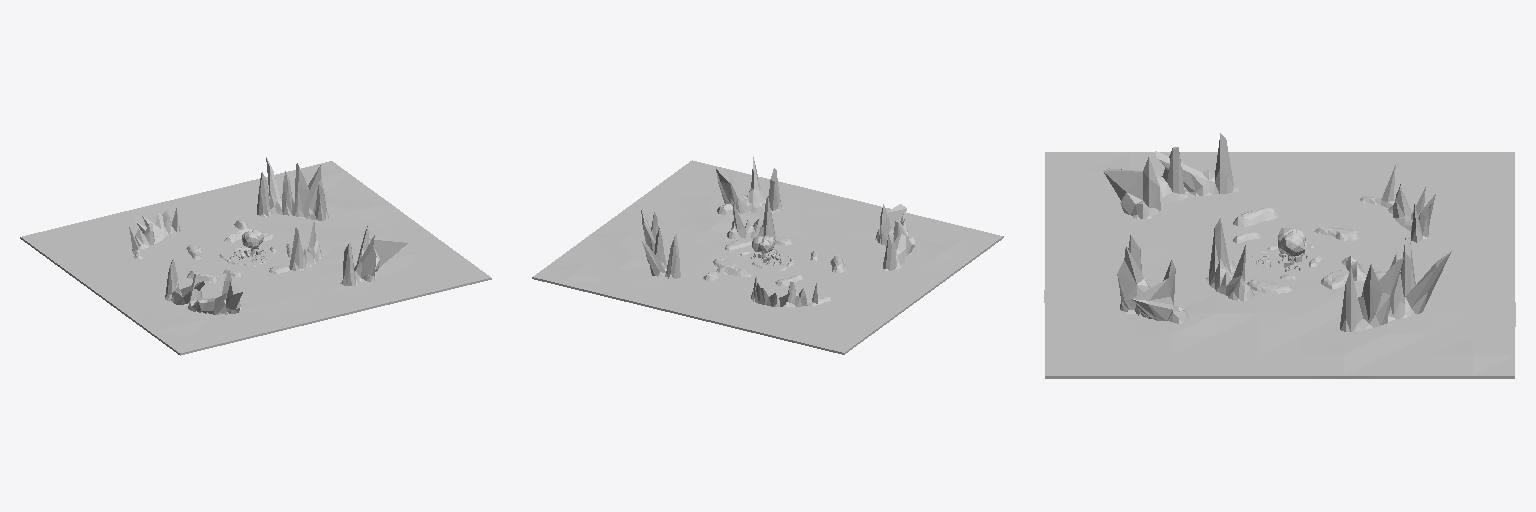
The robot description file, URDF, robot "unnamed":
<?xml version="1.0"?>
<!-- created with Phobos 1.0.1 "Capricious Choutengan" -->
  <robot name="unnamed">

    <link name="D">
      <inertial>
        <origin xyz="0 0 0" rpy="0 0 0"/>
        <mass value="0.001"/>
        <inertia ixx="0.001" ixy="0" ixz="0" iyy="0.001" iyz="0" izz="0.001"/>
      </inertial>
      <visual name="Apple">
        <origin xyz="-0.60168 -0.72072 0.26549" rpy="0 0 0"/>
        <geometry>
          <box size="0.51623 0.5428 0.54709"/>
        </geometry>
        <material name="Apples"/>
      </visual>
      <visual name="Apple2">
        <origin xyz="0.78993 -1.03571 0.2784" rpy="0 0 0"/>
        <geometry>
          <box size="0.51623 0.5428 0.54709"/>
        </geometry>
        <material name="Apples"/>
      </visual>
      <visual name="Apple3">
        <origin xyz="-0.54497 -0.01431 0.27625" rpy="0 0 -2.7357"/>
        <geometry>
          <box size="0.51623 0.5428 0.54709"/>
        </geometry>
        <material name="Apples"/>
      </visual>
      <visual name="Big Tree">
        <origin xyz="0.08515 -0.69393 0.19465" rpy="0 0 1.90972"/>
        <geometry>
          <mesh filename="..\meshes\dae\Cylinder.005.dae" scale="0.16942 0.16942 0.16942"/>
        </geometry>
        <material name="Material.013"/>
      </visual>
      <visual name="Cube">
        <origin xyz="0.02449 0.00025 0.03172" rpy="0 0 0"/>
        <geometry>
          <mesh filename="..\meshes\dae\Cube.001.dae" scale="0.119 0.119 0.01244"/>
        </geometry>
        <material name="Material.001"/>
      </visual>
      <visual name="Flag Pole">
        <origin xyz="-0.73622 -3.36644 0.22896" rpy="0 0 0"/>
        <geometry>
          <mesh filename="..\meshes\dae\Cylinder.dae" scale="0.00652 0.00652 0.26092"/>
        </geometry>
        <material name="Material.003"/>
      </visual>
      <visual name="Grass">
        <origin xyz="0.02449 -1.73482 -0.15137" rpy="0 0 0"/>
        <geometry>
          <mesh filename="..\meshes\dae\Cube.006.dae" scale="25.58492 22.68643 0.15866"/>
        </geometry>
        <material name="Material.015"/>
      </visual>
      <visual name="Hills">
        <origin xyz="0.02449 -1.73482 -0.15137" rpy="0 0 0"/>
        <geometry>
          <mesh filename="..\meshes\dae\Plane.002.dae" scale="8.18262 8.18262 8.18262"/>
        </geometry>
        <material name="Material.016"/>
      </visual>
      <visual name="Icosphere">
        <origin xyz="-0.95211 -1.40743 0.49285" rpy="0 0 0"/>
        <geometry>
          <mesh filename="..\meshes\dae\Icosphere.001.dae" scale="0.17457 0.17457 0.17457"/>
        </geometry>
        <material name="Material.005"/>
      </visual>
      <visual name="Icosphere.001">
        <origin xyz="-1.72954 -1.15293 0.46944" rpy="0 0 0"/>
        <geometry>
          <mesh filename="..\meshes\dae\Icosphere.002.dae" scale="0.17457 0.17457 0.17457"/>
        </geometry>
        <material name="Material.012"/>
      </visual>
      <visual name="Icosphere.002">
        <origin xyz="-0.29969 -0.1999 2.51158" rpy="0 0 1.90972"/>
        <geometry>
          <mesh filename="..\meshes\dae\Icosphere.003.dae" scale="0.84161 0.84161 0.84161"/>
        </geometry>
        <material name="Material.014"/>
      </visual>
      <visual name="Mountains">
        <origin xyz="0.02449 -1.73482 -0.15137" rpy="0 0 0"/>
        <geometry>
          <mesh filename="..\meshes\dae\Plane.001.dae" scale="18.93395 18.93395 18.93395"/>
        </geometry>
        <material name="Material.002"/>
      </visual>
      <visual name="Plane">
        <origin xyz="-0.73622 -3.18705 0.37573" rpy="-3.14159 -1.5708 0"/>
        <geometry>
          <mesh filename="..\meshes\dae\Plane.dae" scale="0.04892 0.17938 0.03262"/>
        </geometry>
        <material name="Material.flag.001"/>
      </visual>
      <visual name="Stem">
        <origin xyz="-0.60531 -0.72989 0.29273" rpy="0 0 0"/>
        <geometry>
          <box size="0.04394 0.04639 0.41547"/>
        </geometry>
      </visual>
      <visual name="Stem2">
        <origin xyz="0.78631 -1.04488 0.30564" rpy="0 0 0"/>
        <geometry>
          <box size="0.04394 0.04639 0.41547"/>
        </geometry>
      </visual>
      <visual name="Stem3">
        <origin xyz="-0.54526 -0.00446 0.30349" rpy="0 0 -2.7357"/>
        <geometry>
          <box size="0.04394 0.04639 0.41547"/>
        </geometry>
      </visual>
      <visual name="Torus.001">
        <origin xyz="-0.98628 -2.8753 0.16704" rpy="1.5708 0 0"/>
        <geometry>
          <mesh filename="..\meshes\dae\Torus.001.dae" scale="0.25847 0.25847 0.25847"/>
        </geometry>
        <material name="rings"/>
      </visual>
      <visual name="Torus.002">
        <origin xyz="0.58319 -2.62583 0.12791" rpy="1.5708 0 0"/>
        <geometry>
          <mesh filename="..\meshes\dae\Torus.002.dae" scale="0.25847 0.25847 0.25847"/>
        </geometry>
        <material name="rings"/>
      </visual>
      <visual name="Torus.003">
        <origin xyz="-0.2096 -1.66568 0.16223" rpy="1.5708 0 -0.75334"/>
        <geometry>
          <mesh filename="..\meshes\dae\Torus.003.dae" scale="0.25847 0.25847 0.25847"/>
        </geometry>
        <material name="rings"/>
      </visual>
      <visual name="Torus.004">
        <origin xyz="1.69706 -0.99747 0.15597" rpy="1.5708 0 -0.75334"/>
        <geometry>
          <mesh filename="..\meshes\dae\Torus.004.dae" scale="0.25847 0.25847 0.25847"/>
        </geometry>
        <material name="rings"/>
      </visual>
      <visual name="Torus.005">
        <origin xyz="-2.35299 -1.02638 0.17049" rpy="1.5708 0 -1.48943"/>
        <geometry>
          <mesh filename="..\meshes\dae\Torus.005.dae" scale="0.25847 0.25847 0.25847"/>
        </geometry>
        <material name="rings"/>
      </visual>
      <visual name="Torus.006">
        <origin xyz="-0.55668 -0.31027 0.15361" rpy="1.5708 0 -1.11838"/>
        <geometry>
          <mesh filename="..\meshes\dae\Torus.006.dae" scale="0.25847 0.25847 0.25847"/>
        </geometry>
        <material name="rings"/>
      </visual>
      <visual name="Torus.007">
        <origin xyz="-1.18808 0.5907 0.18224" rpy="1.5708 0 -1.48943"/>
        <geometry>
          <mesh filename="..\meshes\dae\Torus.007.dae" scale="0.25847 0.25847 0.25847"/>
        </geometry>
        <material name="rings"/>
      </visual>
      <visual name="Torus.008">
        <origin xyz="-2.14964 0.344 0.20077" rpy="1.5708 0 -1.48943"/>
        <geometry>
          <mesh filename="..\meshes\dae\Torus.008.dae" scale="0.25847 0.25847 0.25847"/>
        </geometry>
        <material name="rings"/>
      </visual>
      <visual name="Torus.009">
        <origin xyz="-3.06575 -0.34612 0.12243" rpy="1.5708 0 2.97589"/>
        <geometry>
          <mesh filename="..\meshes\dae\Torus.009.dae" scale="0.25847 0.25847 0.25847"/>
        </geometry>
        <material name="rings"/>
      </visual>
      <visual name="Torus.010">
        <origin xyz="1.49443 -0.04275 0.16985" rpy="1.5708 0 -1.93577"/>
        <geometry>
          <mesh filename="..\meshes\dae\Torus.010.dae" scale="0.25847 0.25847 0.25847"/>
        </geometry>
        <material name="rings"/>
      </visual>
      <visual name="Torus.011">
        <origin xyz="-0.08394 -3.58116 0.15645" rpy="1.5708 0 -1.71827"/>
        <geometry>
          <mesh filename="..\meshes\dae\Torus.011.dae" scale="0.25847 0.25847 0.25847"/>
        </geometry>
        <material name="rings"/>
      </visual>
      <visual name="Tree1">
        <origin xyz="-1.07529 -1.44865 0.01226" rpy="0 0 0"/>
        <geometry>
          <mesh filename="..\meshes\dae\Cylinder.000.dae" scale="0.03514 0.03514 0.03514"/>
        </geometry>
        <material name="Material.006"/>
      </visual>
      <visual name="Tree2">
        <origin xyz="-1.85272 -1.19415 -0.01114" rpy="0 0 0"/>
        <geometry>
          <mesh filename="..\meshes\dae\Cylinder.004.dae" scale="0.03514 0.03514 0.03514"/>
        </geometry>
        <material name="Material.011"/>
      </visual>
    </link>

    <material name="Apples">
      <color rgba="0.8 0.8 0.8 1.0"/>
    </material>

    <material name="Material.001">
      <color rgba="0.8 0.8 0.8 1.0"/>
    </material>

    <material name="Material.002">
      <color rgba="0.8 0.8 0.8 1.0"/>
    </material>

    <material name="Material.003">
      <color rgba="0.8 0.8 0.8 1.0"/>
    </material>

    <material name="Material.005">
      <color rgba="0.8 0.8 0.8 1.0"/>
    </material>

    <material name="Material.006">
      <color rgba="0.8 0.8 0.8 1.0"/>
    </material>

    <material name="Material.011">
      <color rgba="0.8 0.8 0.8 1.0"/>
    </material>

    <material name="Material.012">
      <color rgba="0.8 0.8 0.8 1.0"/>
    </material>

    <material name="Material.013">
      <color rgba="0.8 0.8 0.8 1.0"/>
    </material>

    <material name="Material.014">
      <color rgba="0.8 0.8 0.8 1.0"/>
    </material>

    <material name="Material.015">
      <color rgba="0.8 0.8 0.8 1.0"/>
    </material>

    <material name="Material.016">
      <color rgba="0.8 0.8 0.8 1.0"/>
    </material>

    <material name="Material.flag.001">
      <color rgba="0.8 0.8 0.8 1.0"/>
    </material>

    <material name="rings">
      <color rgba="0.8 0.8 0.8 1.0"/>
    </material>

  </robot>

--- Render facts (derived) ---
The picture shows the robot from 3 angles, left to right: view 1: azimuth 30°, elevation 25°; view 2: azimuth 150°, elevation 25°; view 3: azimuth 270°, elevation 25°; orthographic projection.
Robot: unnamed — 1 links, 0 joints (none); root link D; default pose: every joint at zero.
Visible links, largest first — view 1: D; view 2: D; view 3: D.
Link boxes in pixels (x1=…): D: x1=20, y1=157, x2=491, y2=355; D: x1=532, y1=157, x2=1003, y2=354; D: x1=1044, y1=133, x2=1515, y2=378.
Bounding box of the posed robot: 51.19 × 45.39 × 7.75 m (x, y, z).
23 mesh visuals loaded from 23 distinct referenced files (23 Collada DAE).